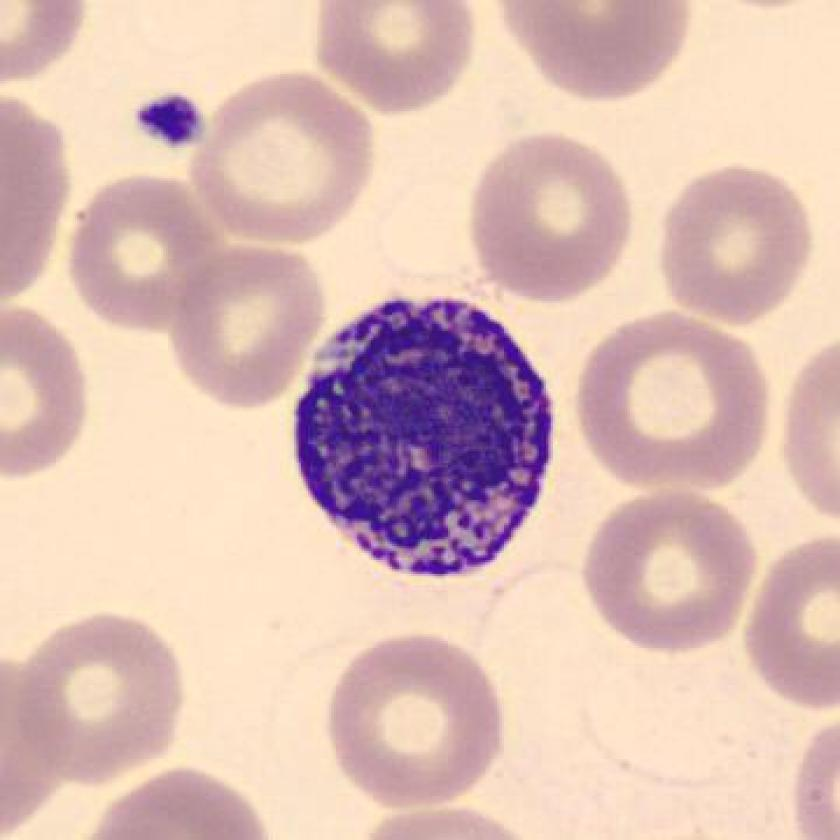basophil: (288, 286, 563, 591)
